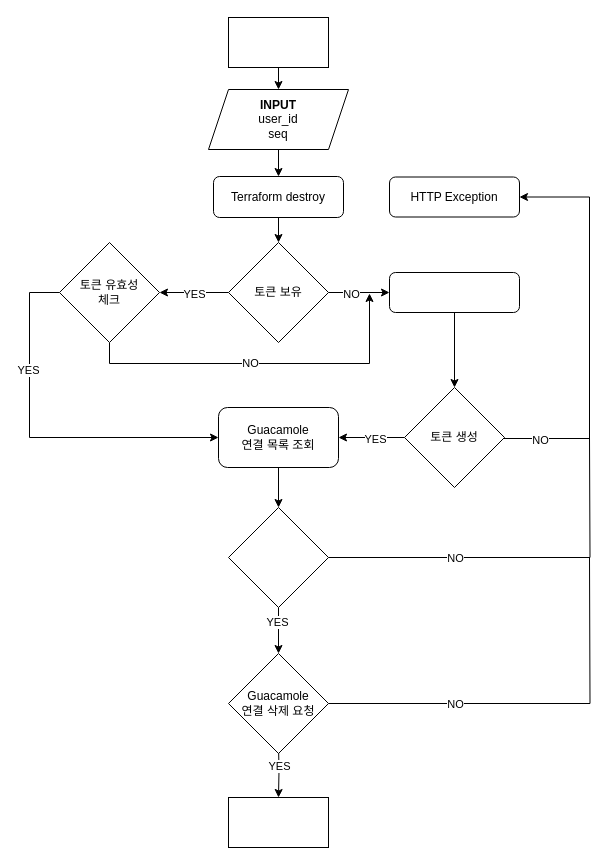
Some shapes in this 615 by 865 pixel diagram are drawn without their labels. The centre of each missing label's shape, as x and y in pixels:
"Guacamole 연결 삭제" belongs at (278,822).
"START" belongs at (278,42).
"삭제 대상 연결 확인" belongs at (278,557).
"토큰 생성 요청" belongs at (454,292).
